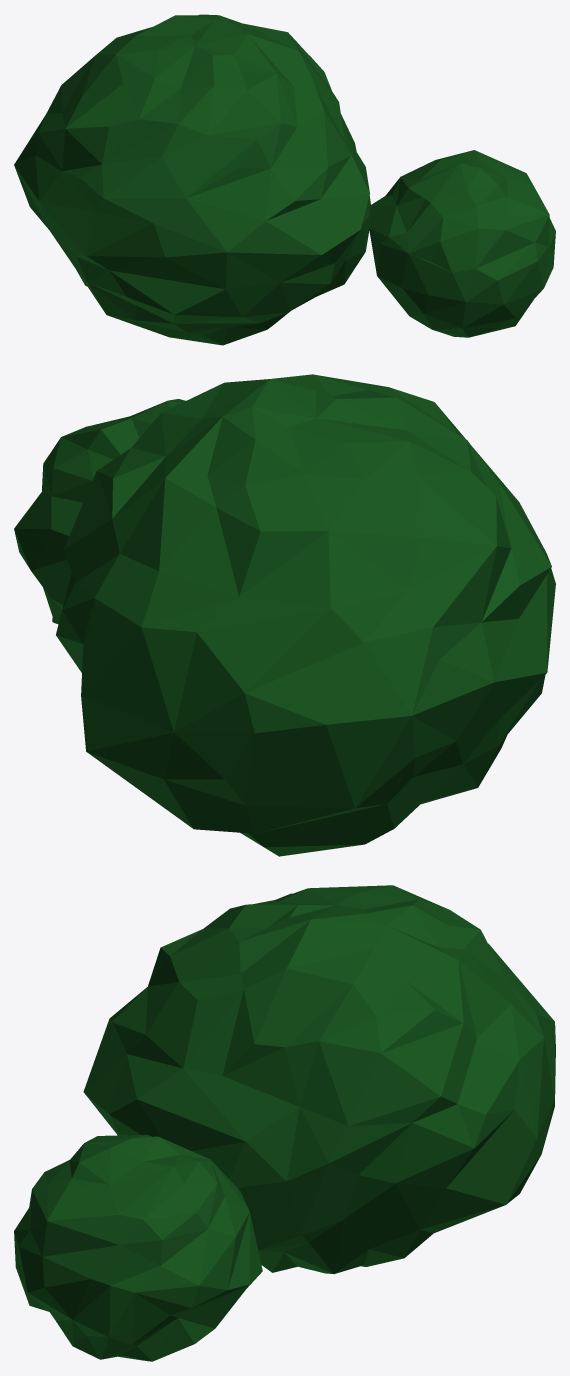
The model's file is bush.fbx.
The picture shows the model from 3 angles, top to bottom: view 1: azimuth 30°, elevation 25°; view 2: azimuth 150°, elevation 25°; view 3: azimuth 270°, elevation 25°; orthographic projection. The views are drawn at different scales.
Parts seen in each view (by area): view 1: Sphere; view 2: Sphere; view 3: Sphere.
Part boxes in pixels (bbox=[...]): Sphere: bbox=[14, 14, 555, 345]; Sphere: bbox=[14, 374, 555, 856]; Sphere: bbox=[14, 885, 555, 1361].
Bounding box in the file's own units: 318 × 218 × 297.
